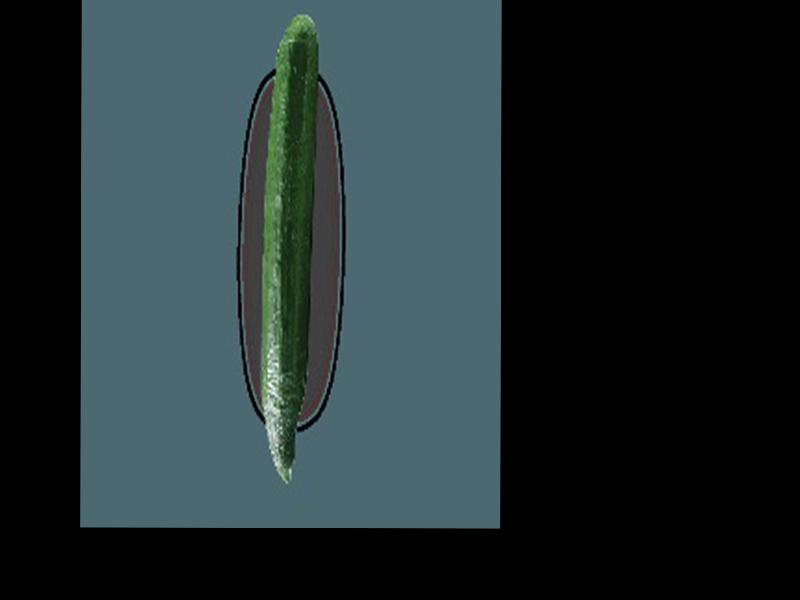Cucumber: (262, 12, 320, 484)
